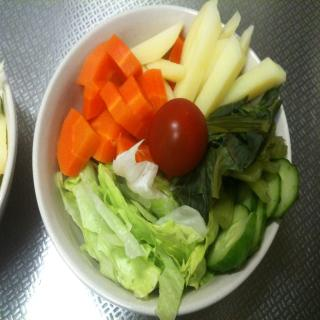tomato: (146, 91, 212, 177)
